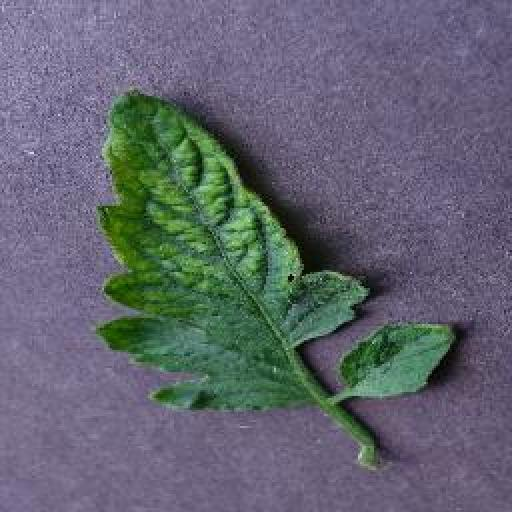Mosaic Virus: (96, 88, 368, 418), (334, 316, 460, 400)
